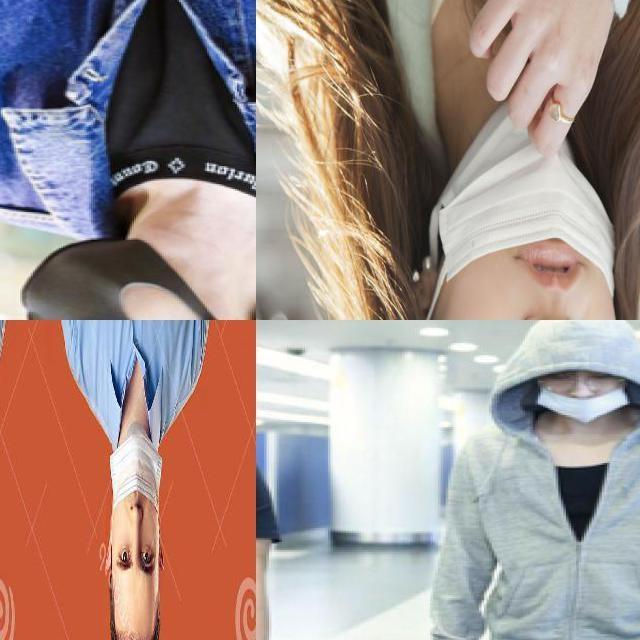hairnet: (448, 146, 619, 319), (538, 381, 628, 424), (114, 440, 157, 530)
